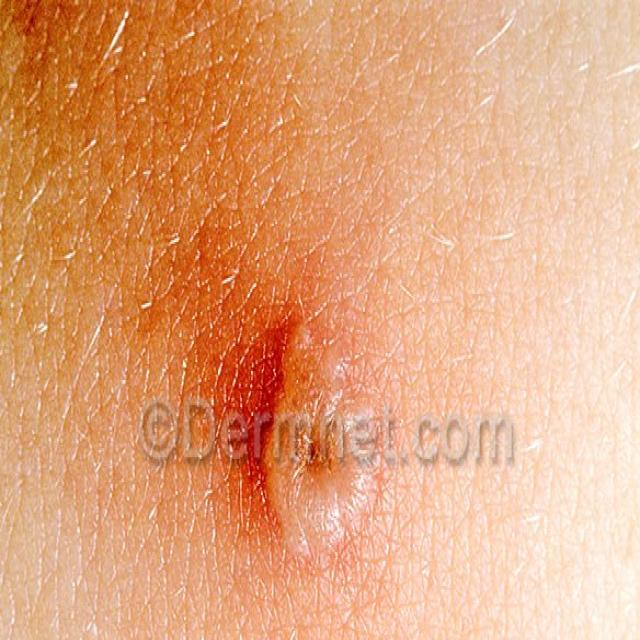Viral Infections: (245, 323, 384, 570)
